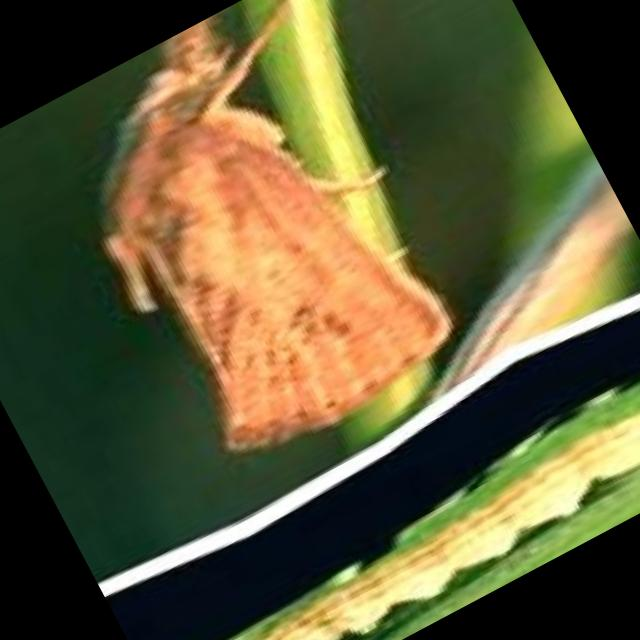stem-borer: (10, 0, 504, 491)
